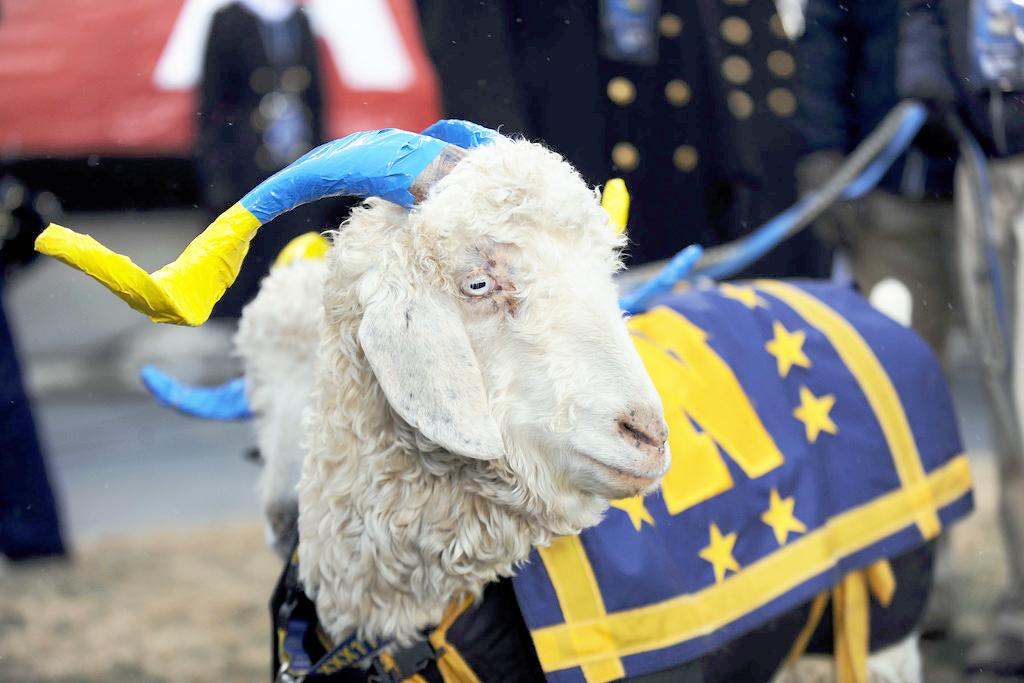Sheep: (39, 121, 934, 682)
